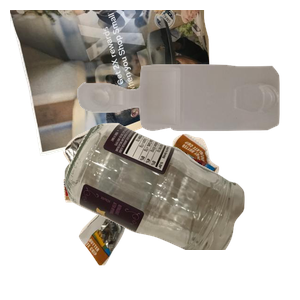glass: (62, 120, 300, 300)
paper: (10, 10, 233, 158)
plastic: (75, 62, 300, 186)
trash: (61, 123, 273, 300)
